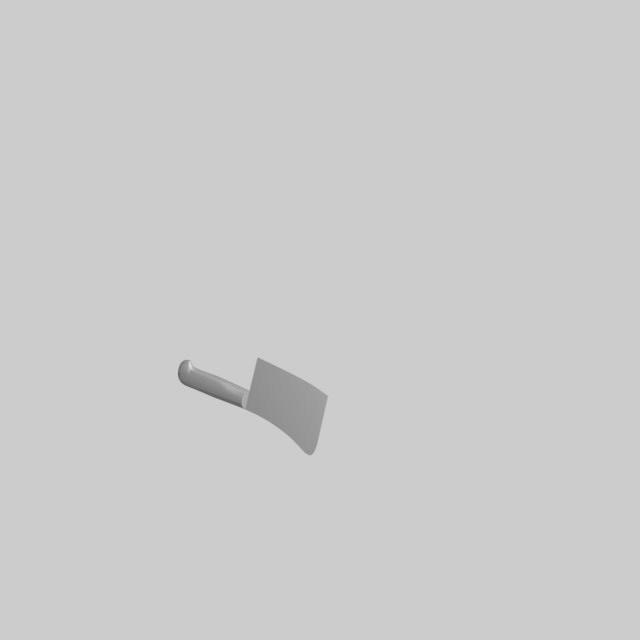knife: (179, 360, 249, 410)
